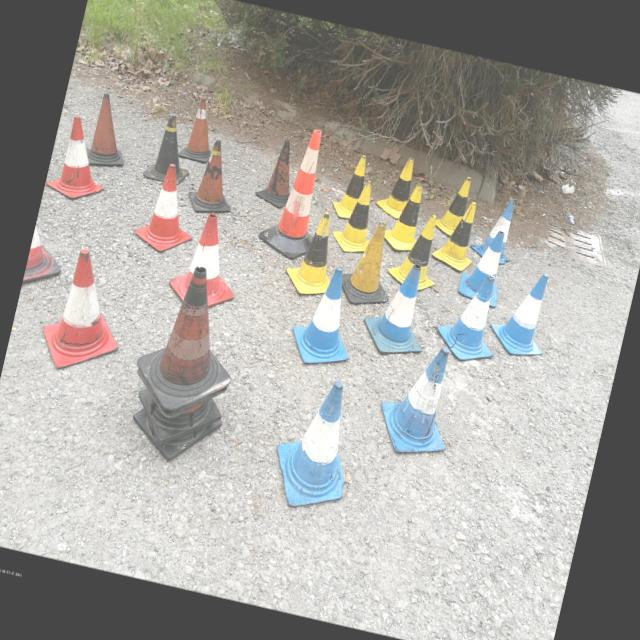blue_cone: (264, 371, 367, 516), (371, 336, 468, 462), (285, 260, 368, 372), (358, 255, 440, 362), (430, 265, 510, 367), (485, 264, 560, 361), (456, 224, 512, 308), (467, 194, 522, 266)
large_orange_cone: (255, 121, 336, 262)
orange_cone: (34, 244, 138, 380), (164, 206, 250, 312), (130, 158, 208, 258), (43, 112, 120, 206), (22, 223, 69, 290)
unknown_cone: (128, 257, 254, 423), (336, 214, 405, 311), (183, 135, 246, 219), (142, 110, 201, 187), (82, 91, 138, 171), (252, 134, 302, 209), (178, 94, 222, 164)
yellow_cone: (281, 206, 345, 300), (383, 207, 450, 294), (328, 175, 382, 257), (429, 194, 485, 273), (381, 178, 428, 255), (373, 152, 418, 220), (328, 150, 371, 221), (433, 172, 472, 238)
